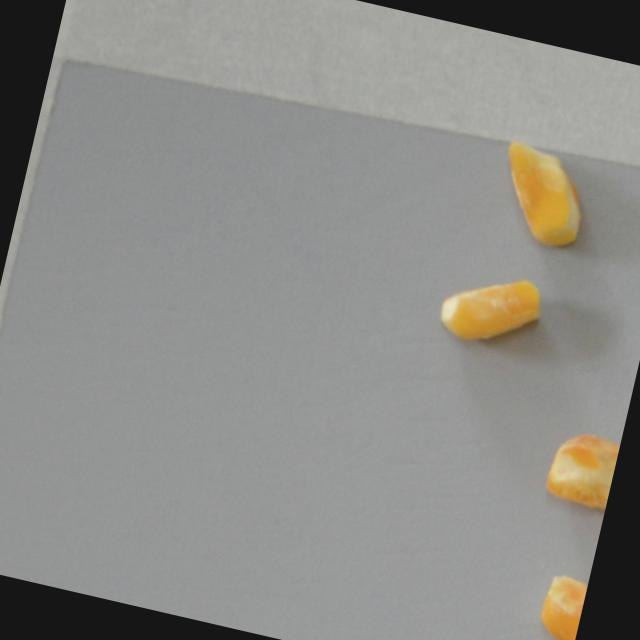pelicula: (477, 100, 613, 278), (433, 262, 552, 362), (542, 423, 621, 514), (525, 570, 588, 640)
